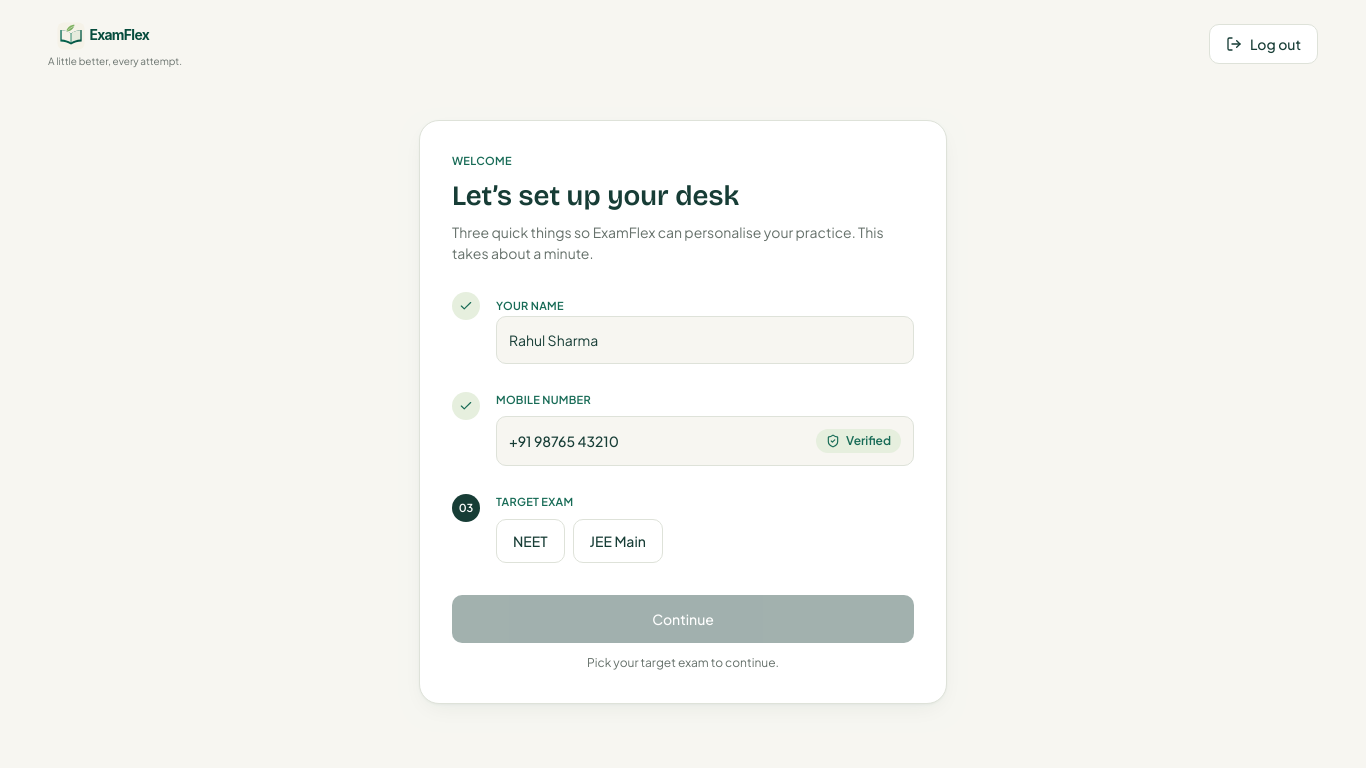
Test: OnboardingScreen › finishing › explains what is still missing, one thing at a time
Clear the field labelled "Your name" at (705, 340), box [496, 316, 914, 364]
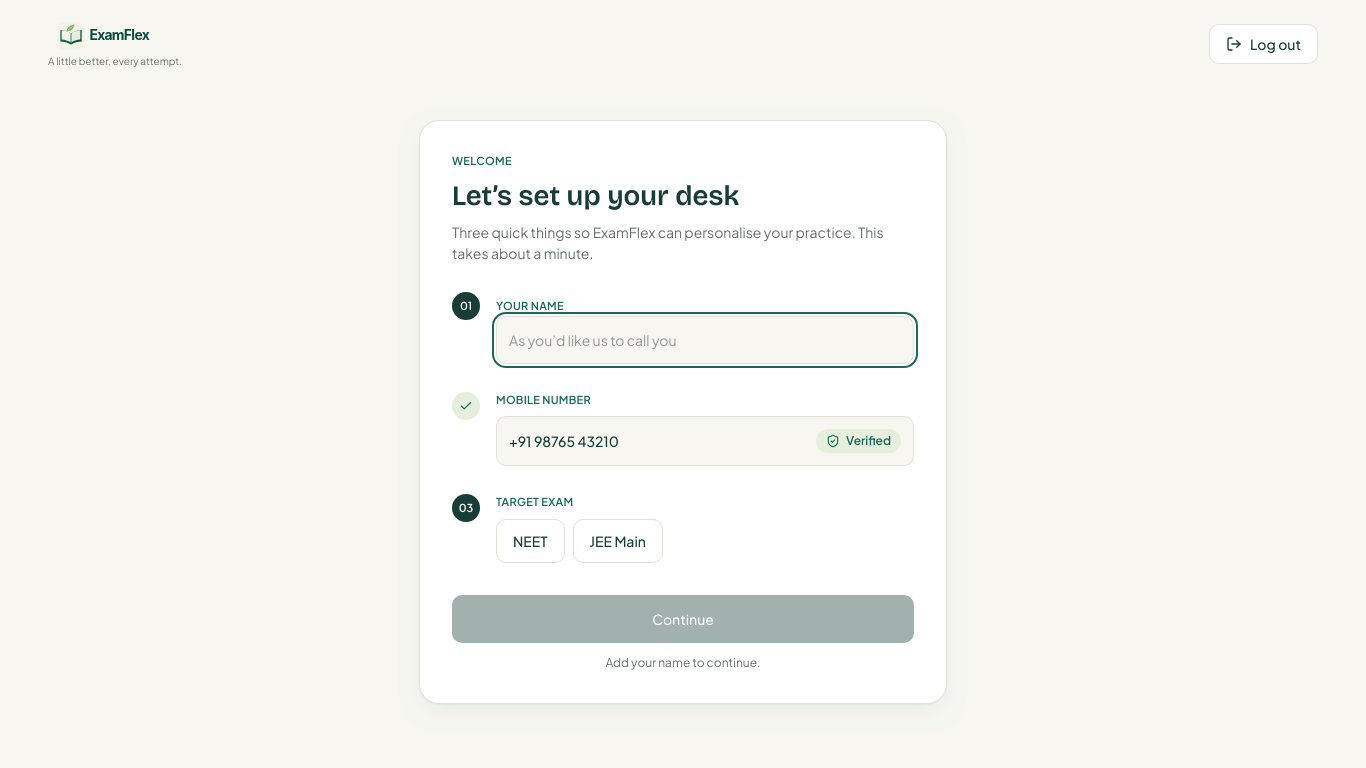
Expected: the text "Add your name to continue." is shown, [606, 655, 761, 670]
Type "Rahul" into the field labelled "Your name" at (705, 340), box [496, 316, 914, 364]
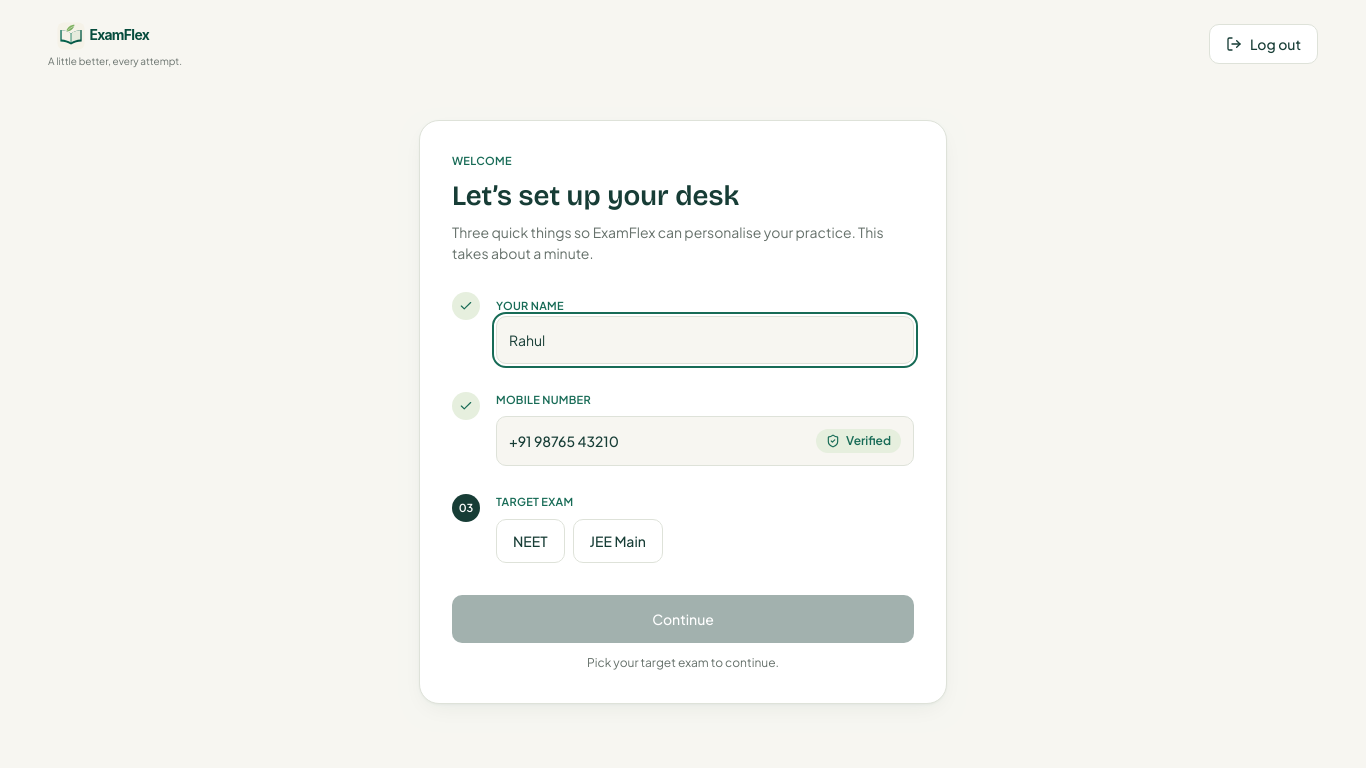
Expected: the text "Pick your target exam to continue." is shown, [587, 655, 779, 670]
Click the radio button labelled "NEET" at (530, 541), box [496, 519, 565, 563]
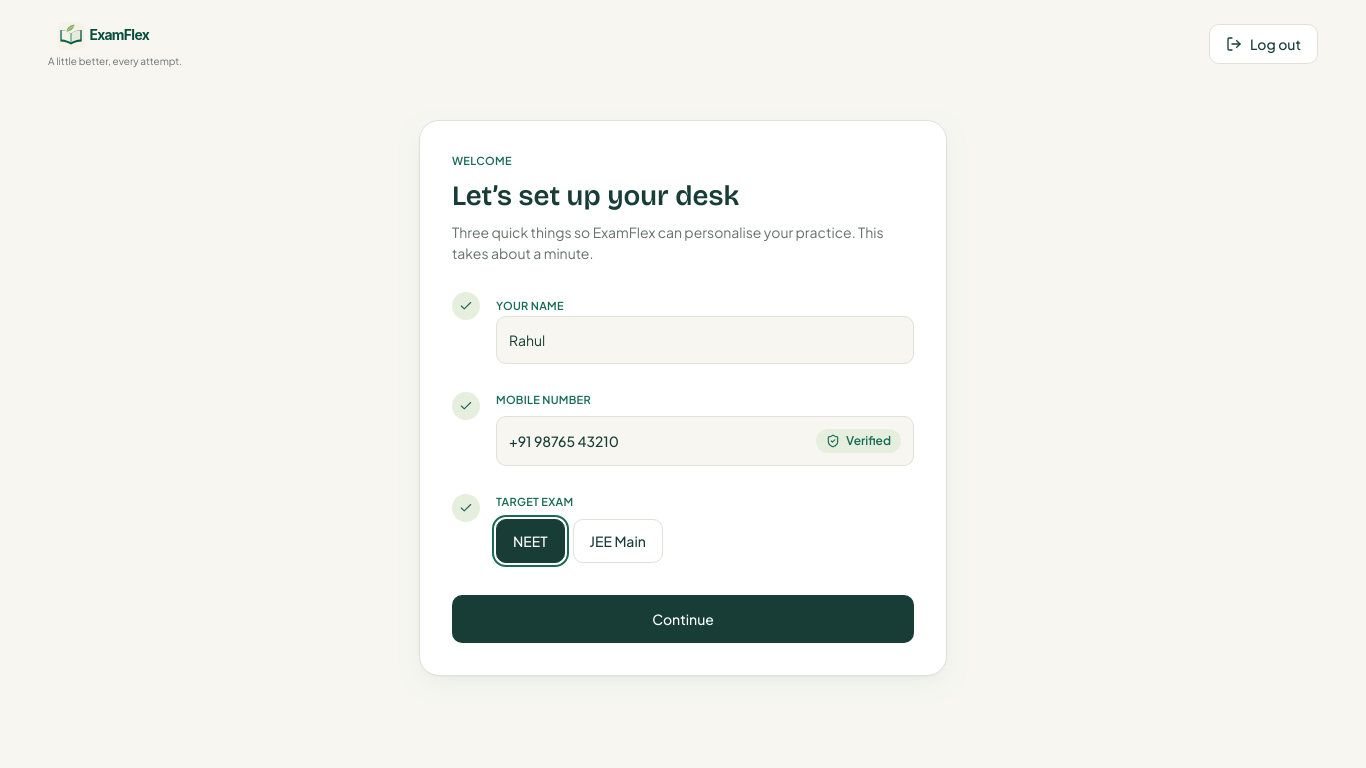
Expected: the button "Continue" is enabled, [452, 595, 914, 643]
Expected: the text "to continue." is gone
